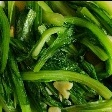youmaicai: (0, 0, 112, 112)
